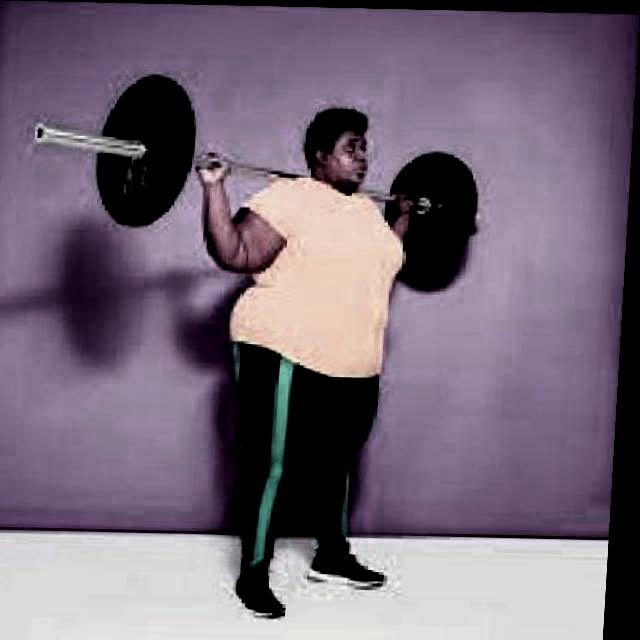barbell: (27, 66, 210, 233)
